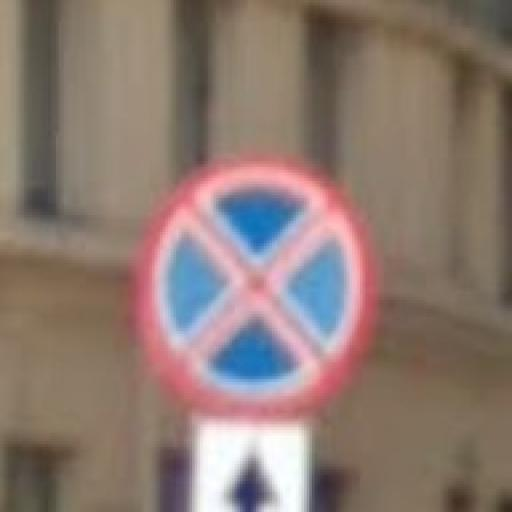traffic_sign: (137, 157, 380, 420)
